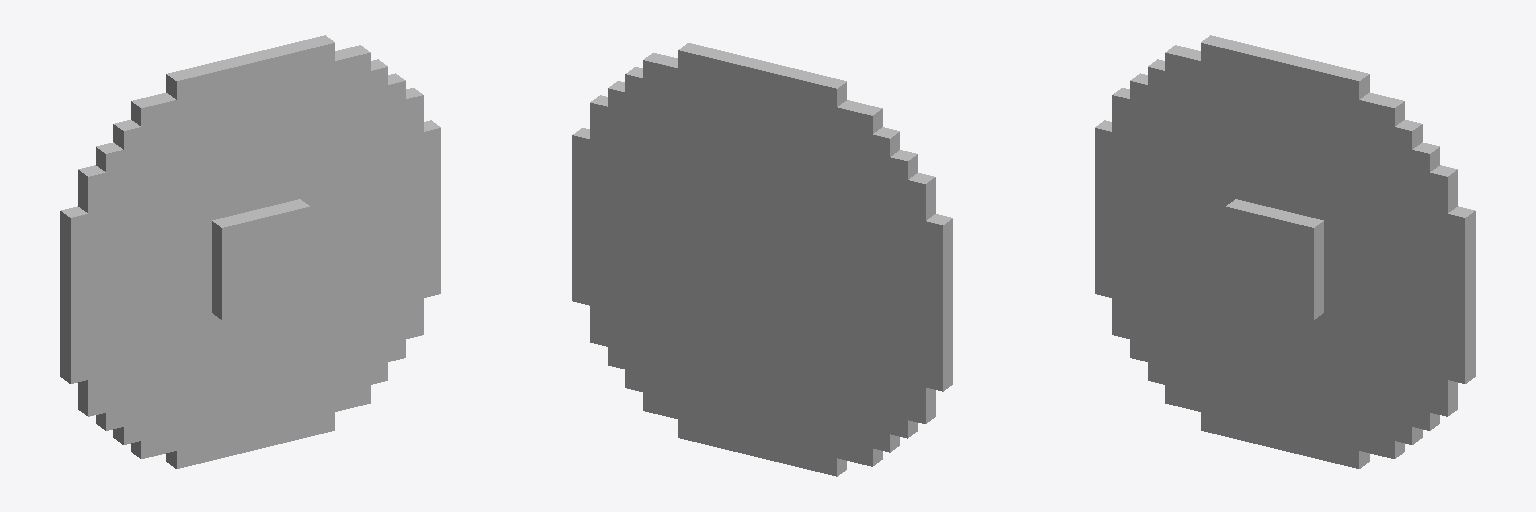
The model's file is shield.obj.
3 views of the same model, side by side, from view 1: azimuth 30°, elevation 25°; view 2: azimuth 150°, elevation 25°; view 3: azimuth 330°, elevation 25° (orthographic).
Visible parts, largest first — view 1: Body; view 2: Body; view 3: Body.
Part boxes in pixels (x1,y1,x2,y2): Body: (60, 35, 440, 468); Body: (572, 43, 952, 476); Body: (1095, 35, 1475, 468).
Size of the model in its own units: 2.1 by 2.1 by 0.2.